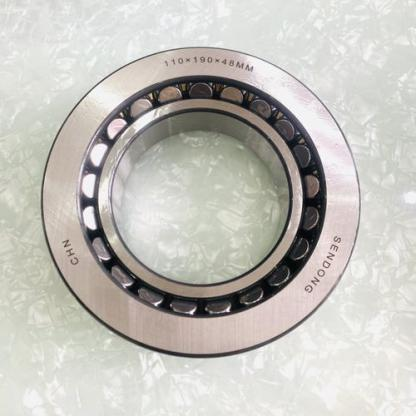FOD: (37, 42, 364, 361)
